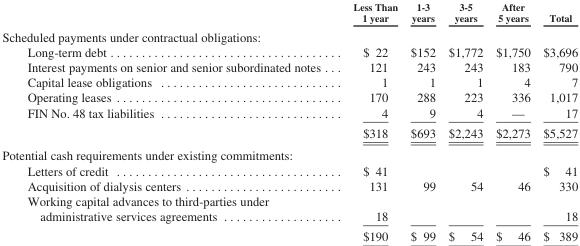table: (1, 1, 577, 243)
table column: (1, 1, 336, 243), (336, 1, 403, 243), (488, 1, 536, 243), (441, 1, 488, 243), (536, 1, 577, 243), (403, 1, 441, 243)
table column header: (1, 1, 577, 26)
table projected row header: (1, 143, 577, 162), (1, 26, 577, 44)
table row: (1, 193, 577, 225), (1, 1, 577, 26), (1, 122, 577, 143), (1, 143, 577, 162), (1, 26, 577, 44), (1, 104, 577, 122), (1, 225, 577, 243), (1, 177, 577, 193), (1, 44, 577, 59), (1, 59, 577, 74), (1, 74, 577, 89), (1, 89, 577, 104), (1, 162, 577, 177)
